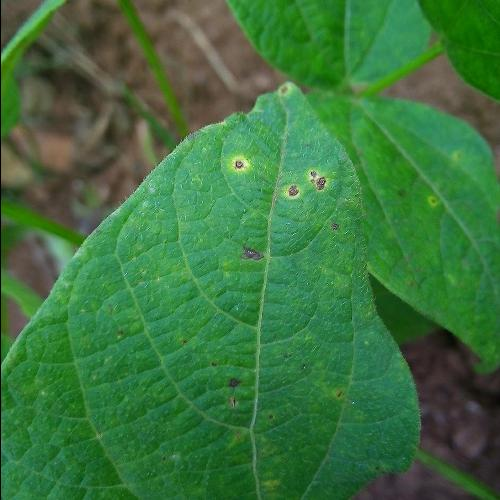hawar: (216, 136, 342, 307)
